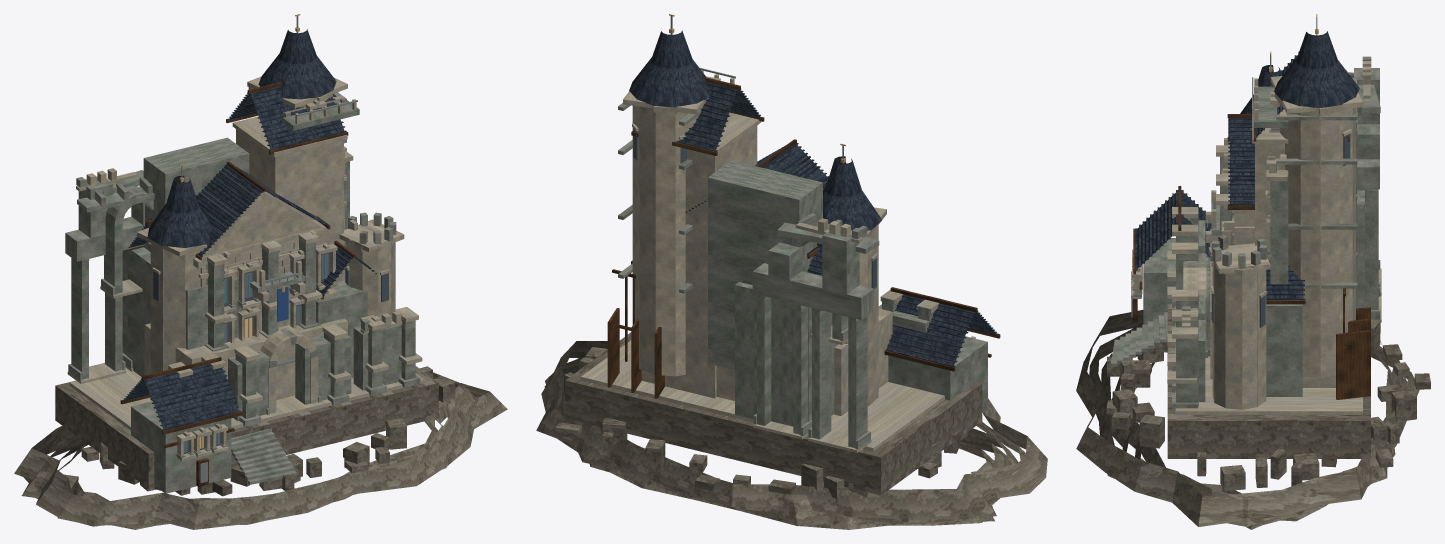
The model's file is valoria_hero_fragment.fbx.
The picture shows the model from 3 angles, left to right: view 1: azimuth 30°, elevation 25°; view 2: azimuth 150°, elevation 25°; view 3: azimuth 270°, elevation 25°; orthographic projection. The views are drawn at different scales.
Visible parts, largest first — view 1: VA Hero / old, VA Hero / rock, VA Hero / stone, VA Hero / pale, VA Hero / roof, VA Hero / roofold, VA Hero / timber, VA Hero / shadow, VA Hero / iron, VA Hero / glass; view 2: VA Hero / rock, VA Hero / old, VA Hero / stone, VA Hero / roof, VA Hero / roofold, VA Hero / timber, VA Hero / pale; view 3: VA Hero / rock, VA Hero / stone, VA Hero / old, VA Hero / pale, VA Hero / roof, VA Hero / roofold, VA Hero / timber, VA Hero / shadow.
Part boxes in pixels (box(x1,y1,x2,y2)): VA Hero / old: box(65, 87, 420, 493); VA Hero / rock: box(14, 366, 507, 529); VA Hero / stone: box(69, 96, 424, 429); VA Hero / pale: box(67, 76, 418, 461); VA Hero / roof: box(147, 29, 346, 256); VA Hero / roofold: box(122, 31, 376, 430); VA Hero / timber: box(120, 82, 355, 486); VA Hero / shadow: box(153, 252, 388, 453); VA Hero / iron: box(181, 15, 357, 482); VA Hero / glass: box(183, 254, 328, 452); VA Hero / rock: box(536, 332, 1047, 529); VA Hero / old: box(618, 103, 987, 449); VA Hero / stone: box(581, 105, 944, 451); VA Hero / roof: box(629, 31, 881, 254); VA Hero / roofold: box(629, 30, 998, 366); VA Hero / timber: box(607, 77, 1000, 398); VA Hero / pale: box(623, 70, 975, 452); VA Hero / rock: box(1076, 304, 1430, 529); VA Hero / stone: box(1167, 61, 1371, 414); VA Hero / old: box(1111, 56, 1380, 410); VA Hero / pale: box(1131, 70, 1381, 350); VA Hero / roof: box(1228, 31, 1359, 205); VA Hero / roofold: box(1135, 32, 1341, 299); VA Hero / timber: box(1132, 96, 1370, 399); VA Hero / shadow: box(1141, 134, 1350, 327).
Bounding box in the file's own units: 4197 × 3613 × 2616.
Materials: 13 (7 with a texture image).
